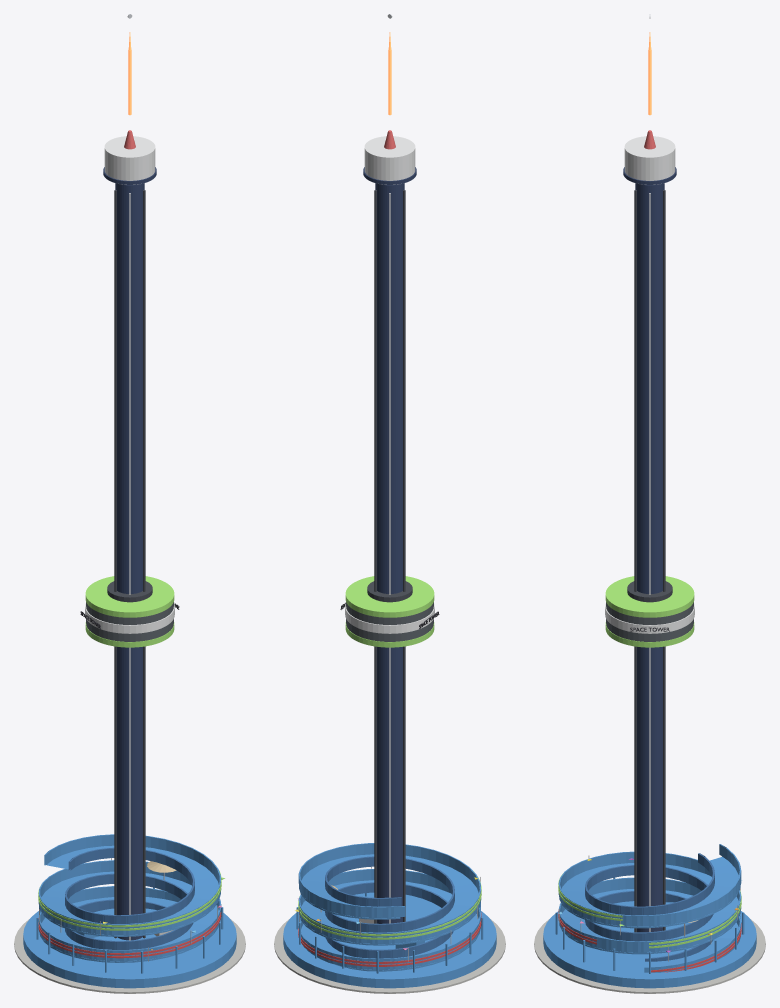
File: state-fair-space-tower.glb
3 renders of one model, left to right at view 1: azimuth 30°, elevation 25°; view 2: azimuth 150°, elevation 25°; view 3: azimuth 270°, elevation 25°, orthographic.
Parts seen in each view (by area): view 1: ST_Shaft, ST_SpiralRailOuter, ST_BaseRing, ST_SpiralInner, ST_SpiralWalk, ST_Pad, ST_CabinLimeTop, ST_Rail2, ST_Rail1, ST_Crown, ST_CabinGlass, ST_Stripe2 (+4 smaller); view 2: ST_Shaft, ST_SpiralRailOuter, ST_BaseRing, ST_SpiralInner, ST_SpiralWalk, ST_Pad, ST_CabinLimeTop, ST_Rail1, ST_Crown, ST_Rail0, ST_CabinGlass, ST_Stripe1 (+4 smaller); view 3: ST_Shaft, ST_SpiralRailOuter, ST_BaseRing, ST_SpiralInner, ST_SpiralWalk, ST_Pad, ST_CabinLimeTop, ST_Crown, ST_Rail2, ST_Rail0, ST_CabinGlass, ST_Stripe0 (+2 smaller).
Part boxes in pixels (<box>): ST_Shaft: <box>115,183,144,940</box>; ST_SpiralRailOuter: <box>38,834,221,961</box>; ST_BaseRing: <box>23,897,236,988</box>; ST_SpiralInner: <box>65,847,194,949</box>; ST_SpiralWalk: <box>39,845,220,962</box>; ST_Pad: <box>14,919,245,993</box>; ST_CabinLimeTop: <box>85,576,174,617</box>; ST_Rail2: <box>143,190,145,938</box>; ST_Rail1: <box>114,190,116,938</box>; ST_Crown: <box>104,136,155,184</box>; ST_CabinGlass: <box>86,602,173,641</box>; ST_Stripe2: <box>129,193,130,940</box>; ST_Shaft: <box>375,183,404,923</box>; ST_SpiralRailOuter: <box>298,843,481,969</box>; ST_BaseRing: <box>283,892,496,988</box>; ST_SpiralInner: <box>325,856,454,958</box>; ST_SpiralWalk: <box>300,854,479,971</box>; ST_Pad: <box>274,919,505,993</box>; ST_CabinLimeTop: <box>345,576,434,617</box>; ST_Rail1: <box>403,190,405,921</box>; ST_Crown: <box>364,136,415,184</box>; ST_Rail0: <box>374,190,376,923</box>; ST_CabinGlass: <box>346,602,433,641</box>; ST_Stripe1: <box>389,193,390,923</box>; ST_Shaft: <box>635,183,664,932</box>; ST_SpiralRailOuter: <box>558,844,741,972</box>; ST_BaseRing: <box>543,901,756,988</box>; ST_SpiralInner: <box>585,853,714,961</box>; ST_SpiralWalk: <box>559,856,740,954</box>; ST_Pad: <box>534,919,765,993</box>; ST_CabinLimeTop: <box>605,576,694,617</box>; ST_Crown: <box>624,136,675,184</box>; ST_Rail2: <box>634,190,636,932</box>; ST_Rail0: <box>663,190,665,930</box>; ST_CabinGlass: <box>606,602,693,641</box>; ST_Stripe0: <box>649,193,650,931</box>.
Size of the model in its own units: 21.4 by 94.82 by 21.4.
